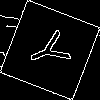Y: (25, 25, 80, 74)
